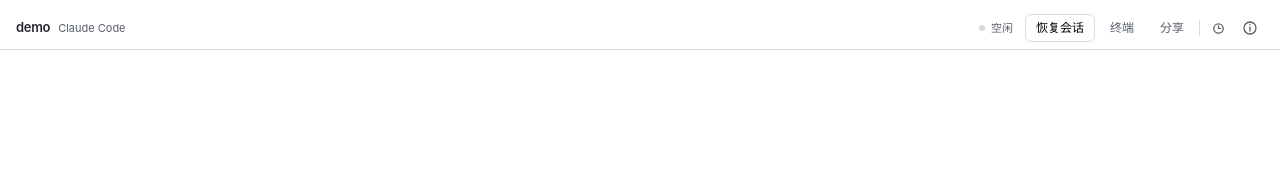
Test: share button copies the standalone /s/:token link
Click the button with aria-label "分享会话": click(1172, 28) [1149, 14, 1195, 42]
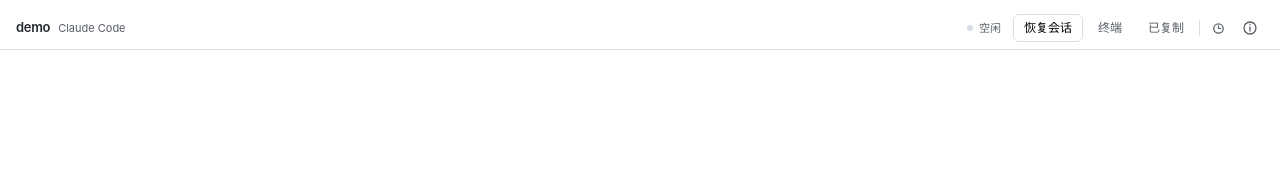
Expected: the button "已复制" is shown, [1137, 14, 1195, 42]
